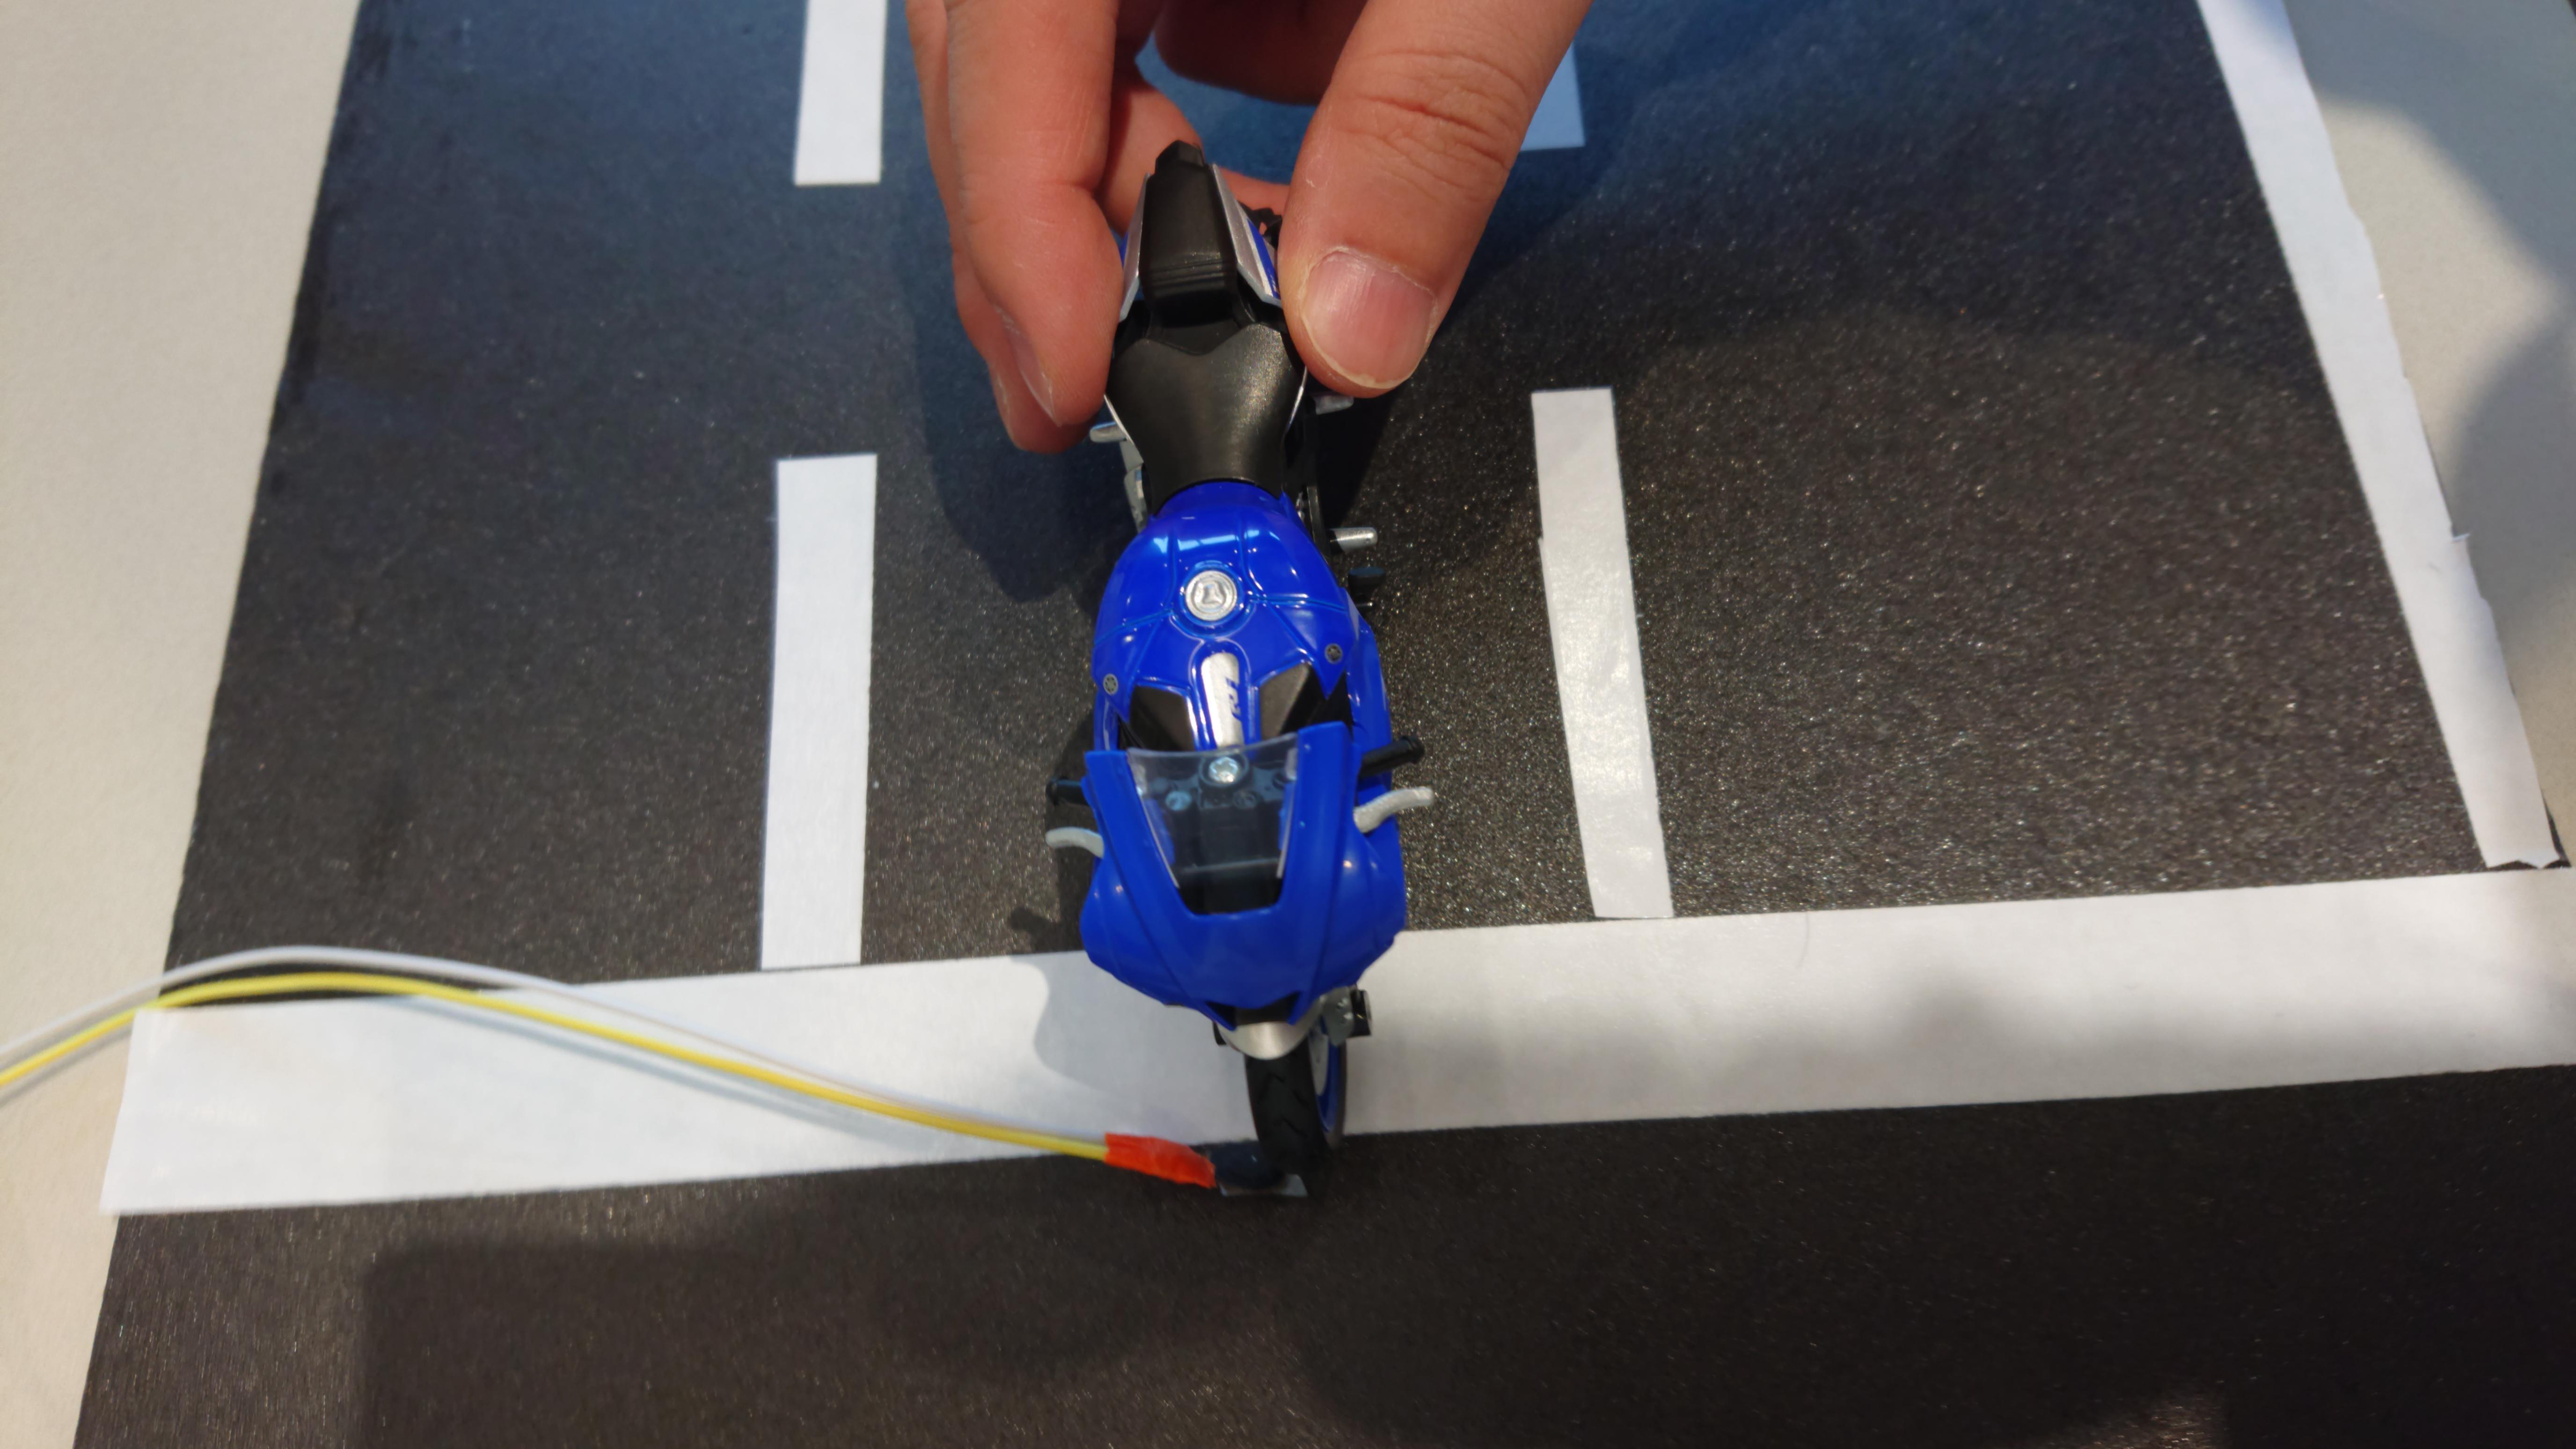Motorcycle: (1028, 133, 1460, 1207)
